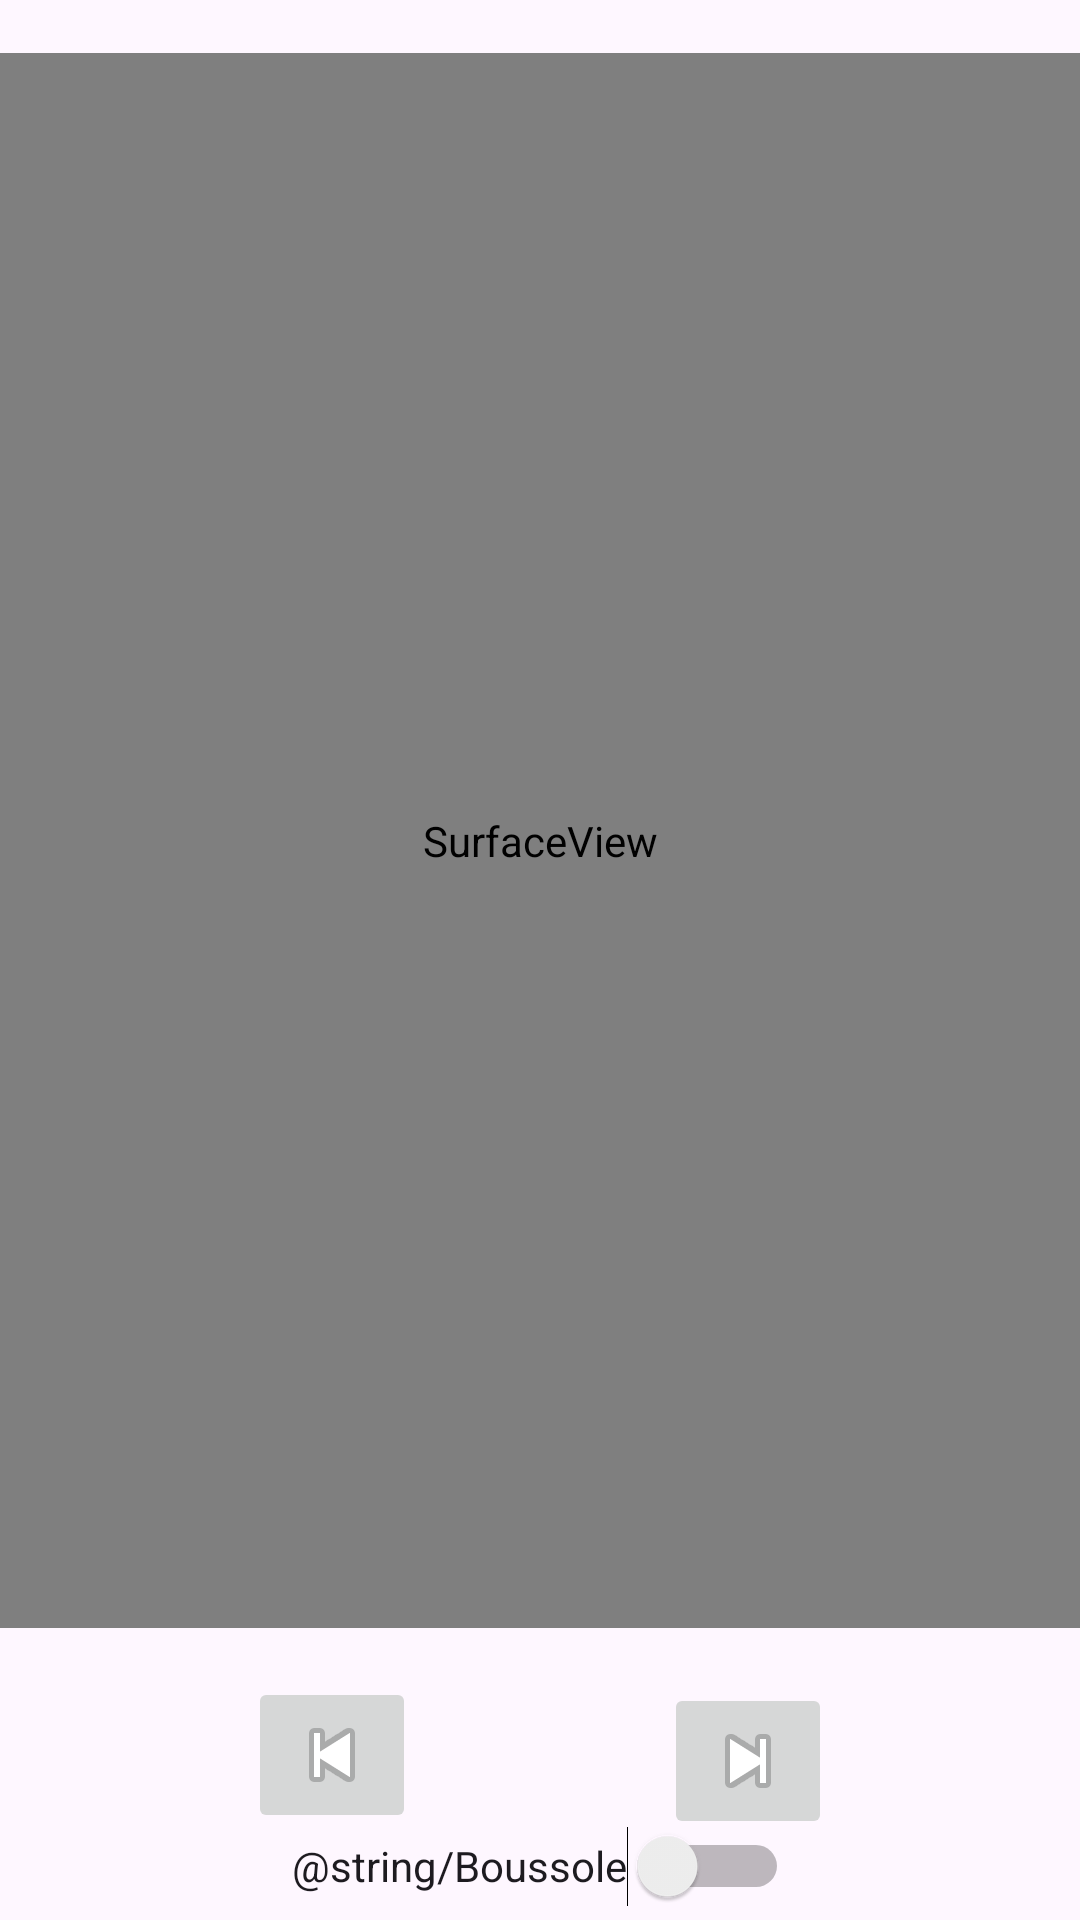

Point at icon controls on the screen. Image size 1080px×1920px, points as point (x, y).
next: point (748, 1761)
previous: point (332, 1755)
